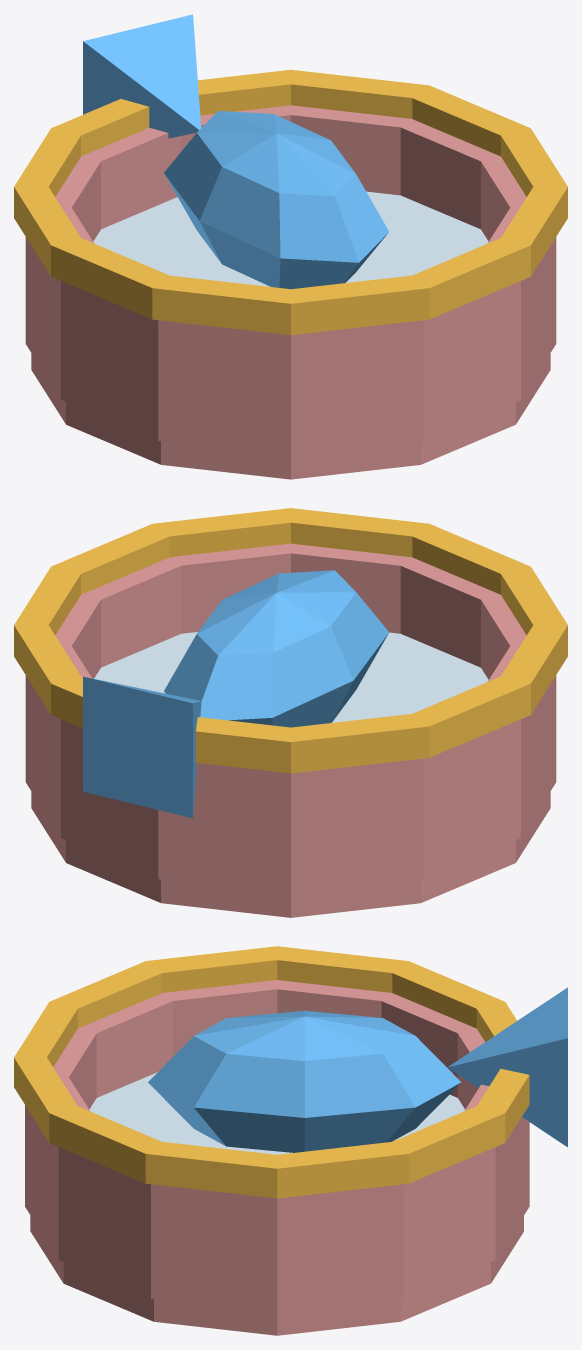
File: CatCafe_Item_FoodBowl_Premium.glb
3 views of the same model, one above another, from view 1: azimuth 30°, elevation 25°; view 2: azimuth 150°, elevation 25°; view 3: azimuth 270°, elevation 25° (orthographic). The views are drawn at different scales.
Visible parts, largest first — view 1: CatCafe_Item_FoodBowl_Premium; view 2: CatCafe_Item_FoodBowl_Premium; view 3: CatCafe_Item_FoodBowl_Premium.
Boxes of the visible parts, x1=… form: CatCafe_Item_FoodBowl_Premium: x1=14, y1=14, x2=567, y2=479; CatCafe_Item_FoodBowl_Premium: x1=14, y1=508, x2=567, y2=917; CatCafe_Item_FoodBowl_Premium: x1=14, y1=946, x2=567, y2=1335.
Size of the model in its own units: 0.96 by 0.44 by 1.01.
Materials: 1 (1 with a texture image).
